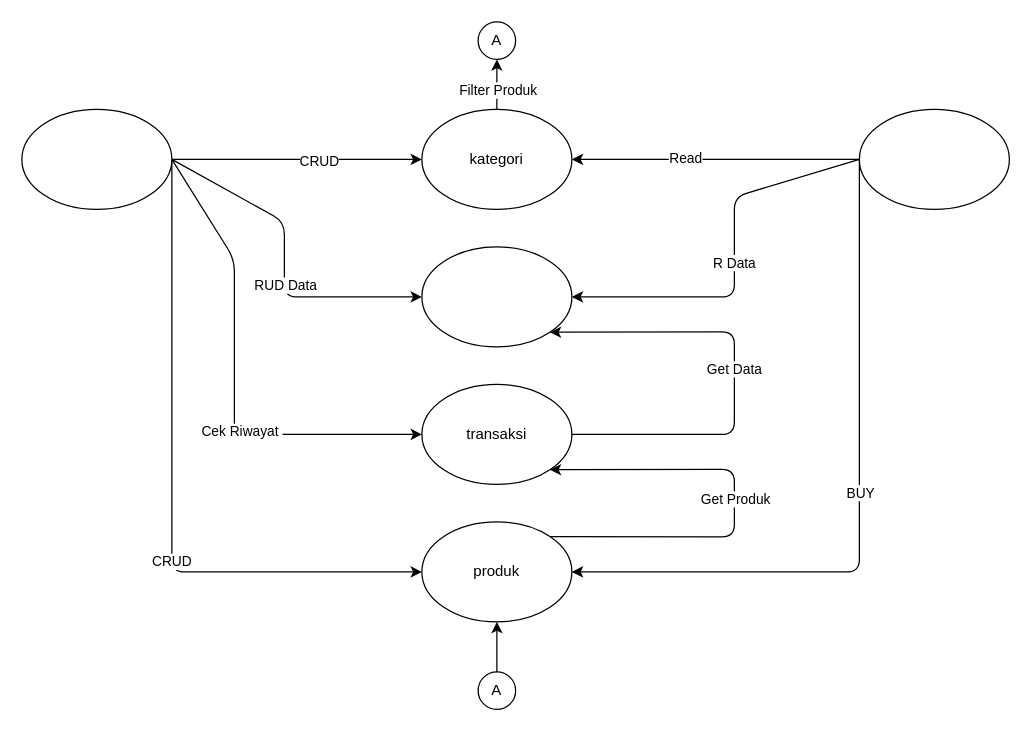
Image size: 1031x731. Some labels were removed from this diagram. The centre of each missing label's shape, as x and y in pixels:
admin: the point at 96,158
customer: the point at 933,158
invoice: the point at 496,296
